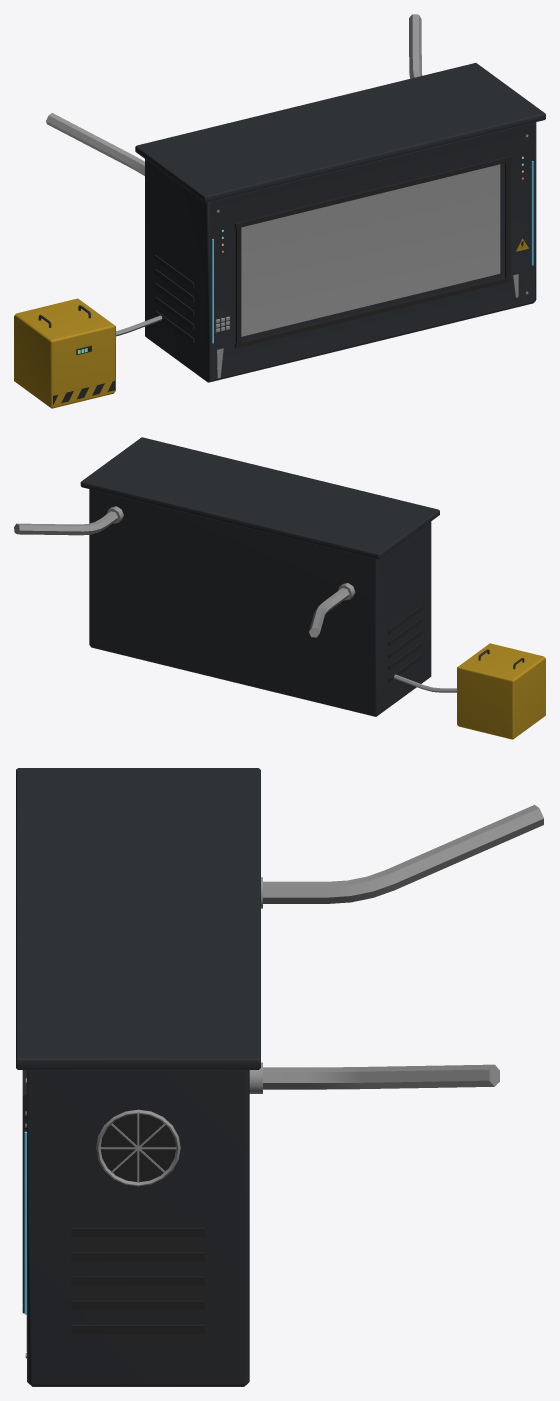
The model's file is Relay_Transmitter.fbx.
3 renders of one model, top to bottom at view 1: azimuth 30°, elevation 25°; view 2: azimuth 150°, elevation 25°; view 3: azimuth 270°, elevation 25°, orthographic. The views are drawn at different scales.
Parts seen in each view (by area): view 1: Relay_Transmitter_LOD0; view 2: Relay_Transmitter_LOD0; view 3: Relay_Transmitter_LOD0.
Boxes of the visible parts, x1,y1,x2,y2 form: Relay_Transmitter_LOD0: (14, 14, 545, 408); Relay_Transmitter_LOD0: (14, 437, 545, 739); Relay_Transmitter_LOD0: (16, 768, 543, 1386).
Size of what is drawn, in the model's own units: 4.44 by 1.66 by 2.37.
